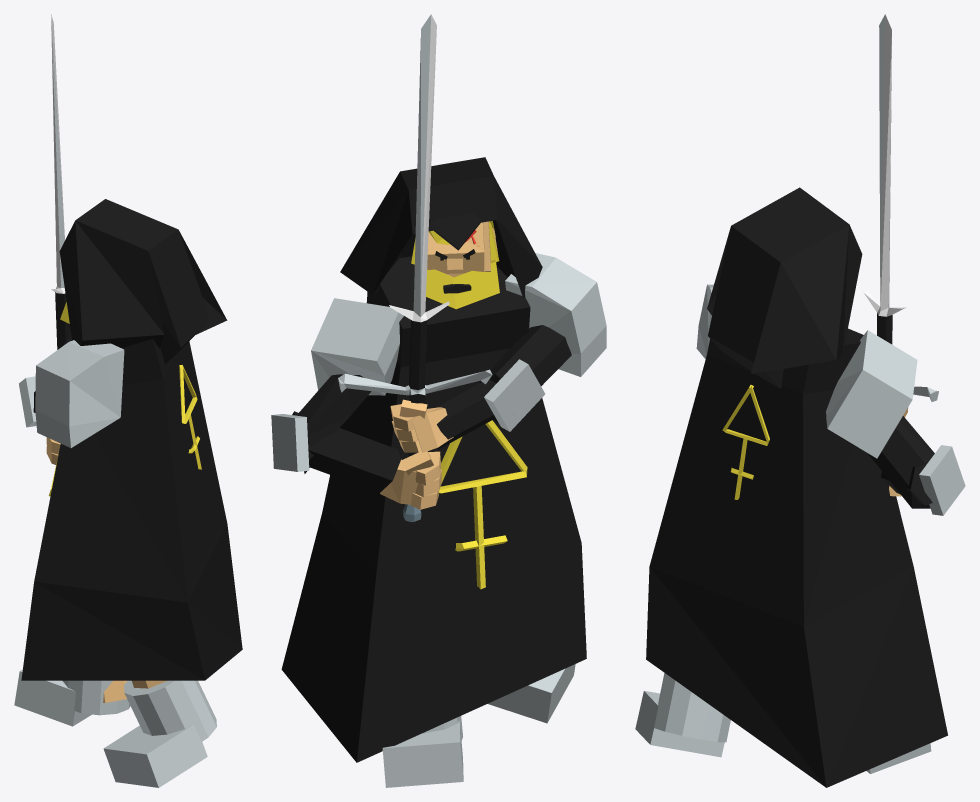
File: scene_sGBsp00wnp.glb
The picture shows the model from 3 angles, left to right: view 1: azimuth 30°, elevation 25°; view 2: azimuth 150°, elevation 25°; view 3: azimuth 270°, elevation 25°; orthographic projection. The views are drawn at different scales.
Visible parts, largest first — view 1: group1711130154, group1603932607, group468322974, group677507558, group737456625, group1394768560, group1805431680, group1684077297, group1363280630, group818701887, group528689598; view 2: group1711130154, group1603932607, group1394768560, group468322974, group1784047620, group1805431680, group634289995, group1511822519, group1578032535, group818701887, group677507558, group1338014458 (+7 smaller); view 3: group1711130154, group1603932607, group1784047620, group1394768560, group737456625, group1578032535, group811666180, group677507558, group1363280630, group468322974, group634289995.
Boxes of the visible parts, x1,y1,x2,y2 form: group1711130154: (21, 331, 242, 680); group1603932607: (59, 199, 227, 364); group468322974: (35, 340, 124, 447); group677507558: (103, 724, 207, 787); group737456625: (124, 680, 216, 741); group1394768560: (51, 14, 70, 349); group1805431680: (14, 669, 91, 726); group1684077297: (62, 680, 130, 715); group1363280630: (179, 365, 201, 469); group818701887: (19, 376, 36, 427); group528689598: (103, 680, 126, 702); group1711130154: (281, 256, 586, 762); group1603932607: (340, 157, 542, 297); group1394768560: (338, 14, 492, 521); group468322974: (505, 253, 606, 376); group1784047620: (311, 298, 403, 395); group1805431680: (382, 720, 463, 787); group634289995: (292, 411, 401, 492); group1511822519: (479, 325, 571, 422); group1578032535: (296, 374, 371, 473); group818701887: (484, 359, 545, 431); group677507558: (487, 664, 575, 723); group1338014458: (436, 379, 496, 449); group1711130154: (646, 328, 947, 787); group1603932607: (707, 187, 862, 388); group1784047620: (826, 330, 917, 458); group1394768560: (863, 14, 938, 401); group737456625: (654, 673, 730, 742); group1578032535: (868, 416, 934, 508); group811666180: (919, 445, 965, 515); group677507558: (635, 691, 724, 757); group1363280630: (722, 385, 769, 499); group468322974: (696, 284, 713, 358); group634289995: (881, 462, 932, 505).
Size of the model in its own units: 0.2809 by 0.7552 by 0.3063.
